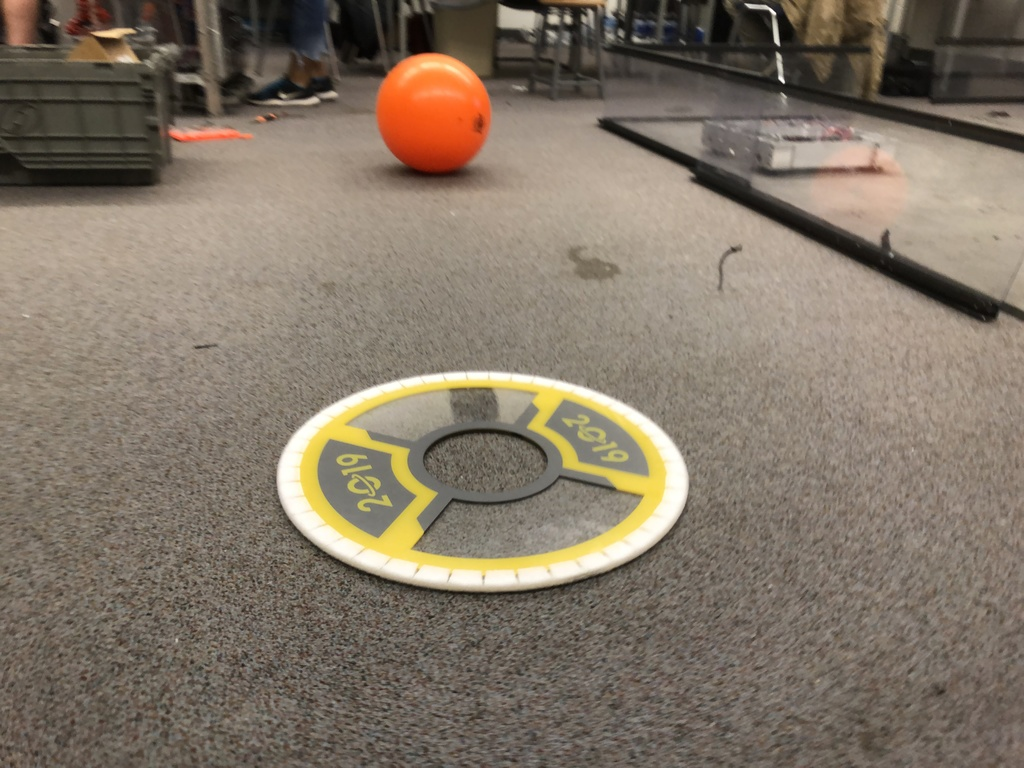hatch_panel: (254, 352, 730, 607)
